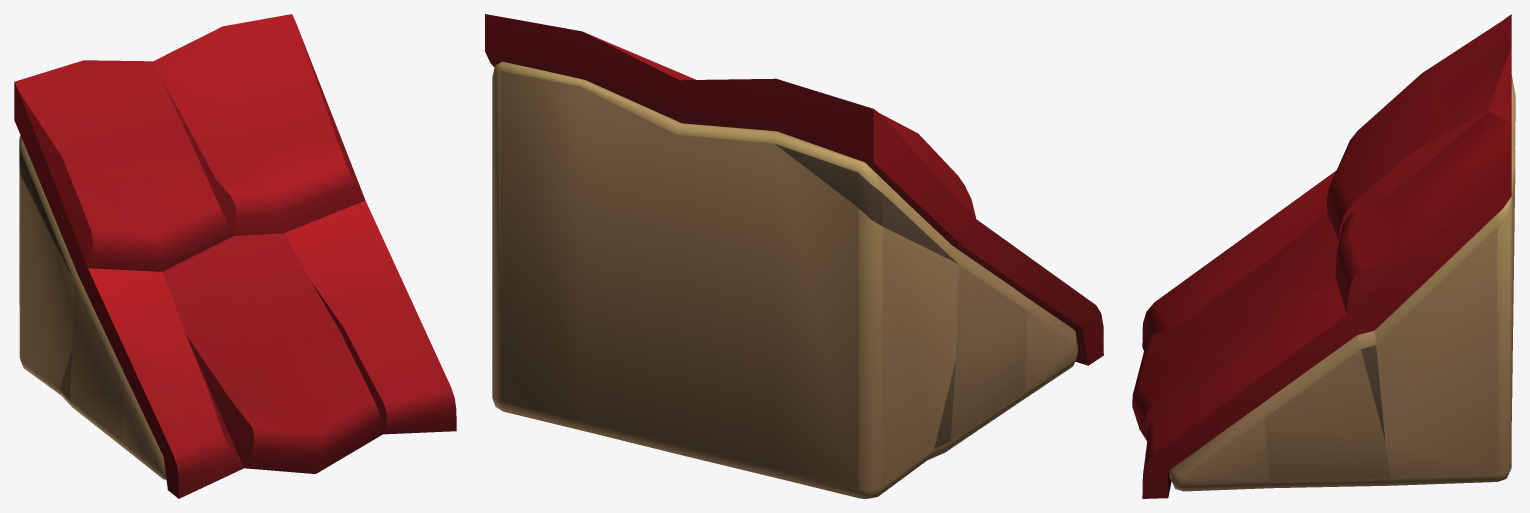
File: tavern_roof.fbx
3 views of the same model, side by side, from view 1: azimuth 30°, elevation 25°; view 2: azimuth 150°, elevation 25°; view 3: azimuth 270°, elevation 25° (orthographic). The views are drawn at different scales.
Visible parts, largest first — view 1: tavern_roof_LOD0; view 2: tavern_roof_LOD0; view 3: tavern_roof_LOD0.
Boxes of the visible parts, x1,y1,x2,y2 form: tavern_roof_LOD0: [14, 14, 456, 498]; tavern_roof_LOD0: [485, 14, 1103, 498]; tavern_roof_LOD0: [1132, 14, 1515, 498].
Size of what is drawn, in the model's own units: 100 by 106 by 107.
